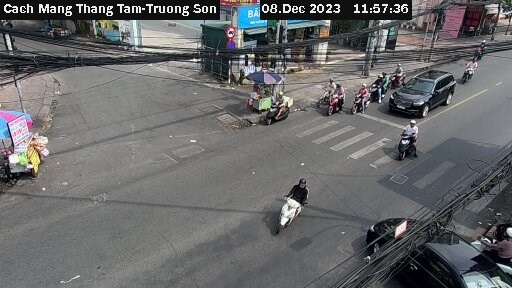car: (368, 201, 501, 288), (390, 66, 465, 115)
motorbike: (271, 176, 324, 238), (392, 119, 432, 168), (361, 72, 390, 97), (348, 86, 369, 116), (324, 88, 346, 116), (387, 63, 411, 87), (472, 39, 497, 62), (310, 79, 332, 103), (462, 60, 486, 81)
